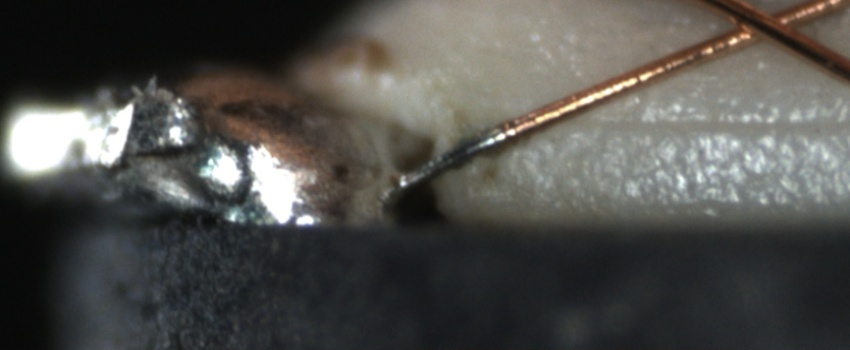CL: (706, 2, 818, 48)
DL: (557, 93, 850, 157)
TS: (397, 129, 506, 191)
